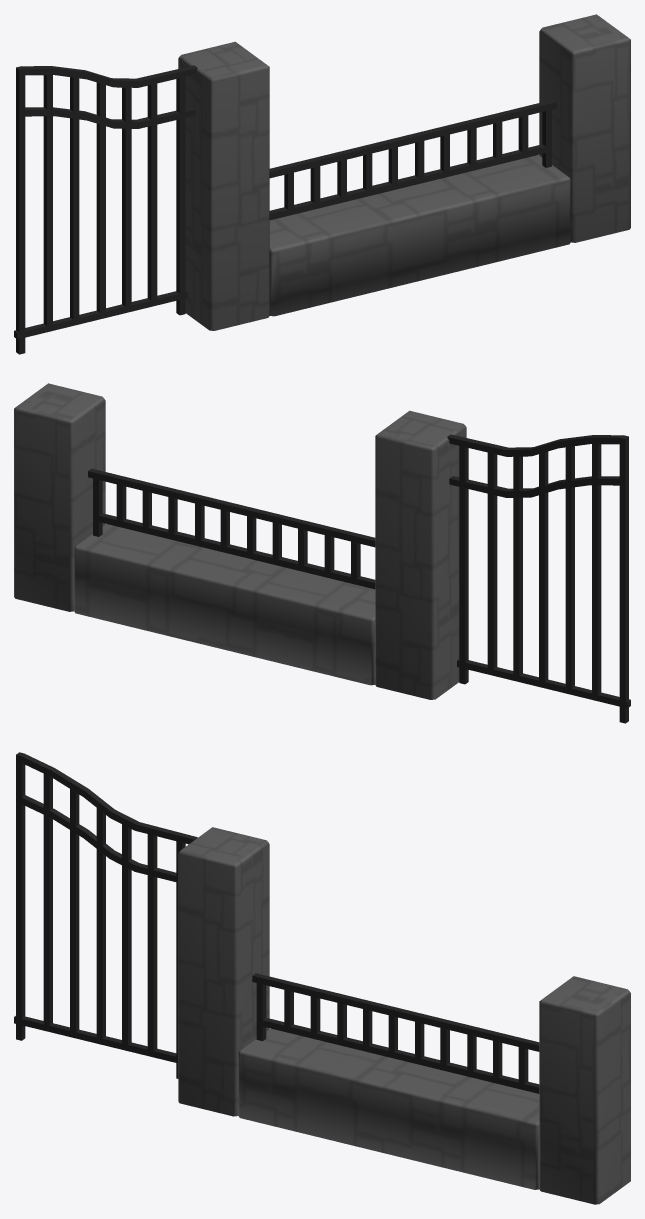
File: fence.fbx
3 renders of one model, top to bottom at view 1: azimuth 30°, elevation 25°; view 2: azimuth 150°, elevation 25°; view 3: azimuth 330°, elevation 25°, orthographic.
Visible parts, largest first — view 1: Fence_halfPillar, Fence_pillar, Fence_gateFancy, Fence_pillar1; view 2: Fence_halfPillar, Fence_pillar, Fence_gateFancy, Fence_pillar1; view 3: Fence_halfPillar, Fence_pillar, Fence_gateFancy, Fence_pillar1.
Boxes of the visible parts, bbox=[...] form: Fence_halfPillar: bbox=[269, 99, 570, 316]; Fence_pillar: bbox=[178, 41, 269, 330]; Fence_gateFancy: bbox=[14, 65, 197, 354]; Fence_pillar1: bbox=[539, 14, 630, 242]; Fence_halfPillar: bbox=[74, 468, 375, 685]; Fence_pillar: bbox=[375, 410, 466, 699]; Fence_gateFancy: bbox=[447, 434, 630, 723]; Fence_pillar1: bbox=[14, 383, 105, 611]; Fence_halfPillar: bbox=[238, 973, 539, 1189]; Fence_pillar: bbox=[178, 827, 269, 1116]; Fence_gateFancy: bbox=[14, 752, 197, 1078]; Fence_pillar1: bbox=[539, 976, 630, 1204].
Size of the model in its own units: 9.96 by 4.65 by 1.
